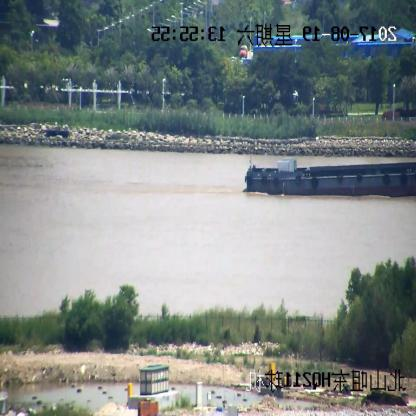Bulk Carrier: (245, 158, 416, 198)
